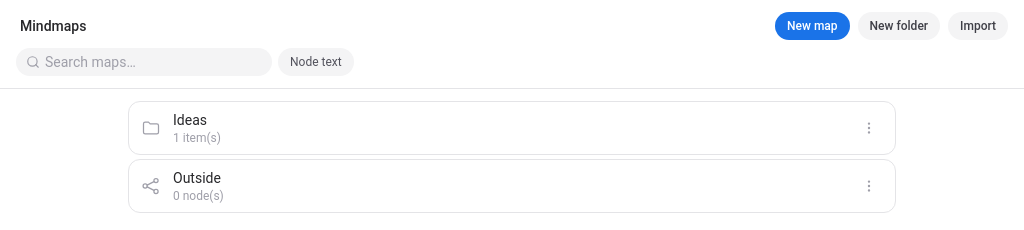
MindmapBrowser › navigates into a folder and shows the breadcrumb
Expected: the text "Inside" is not shown
Click the text "Ideas": {"x": 190, "y": 120} [173,112,207,128]
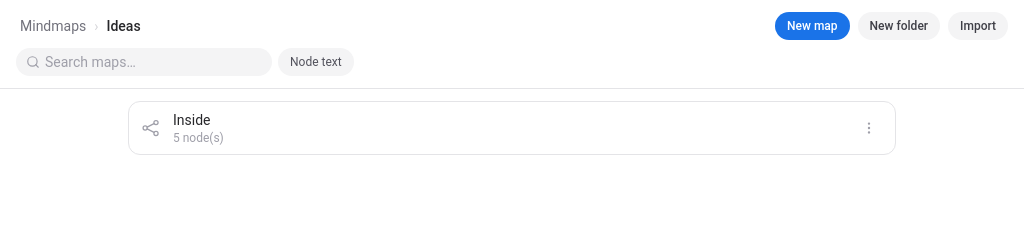
Expected: the text "Inside" is shown, [173,112,210,128]
Expected: the button "Outside" is gone
Note: Breadcrumb back to top
Click the button "Mindmaps": {"x": 53, "y": 26} [16,14,90,38]
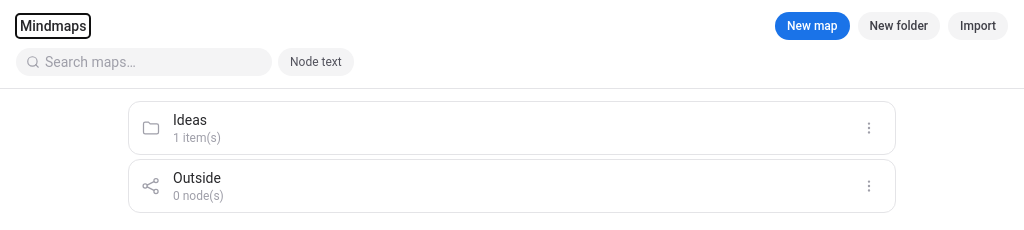
Expected: the text "Outside" is shown, [173,170,221,186]
